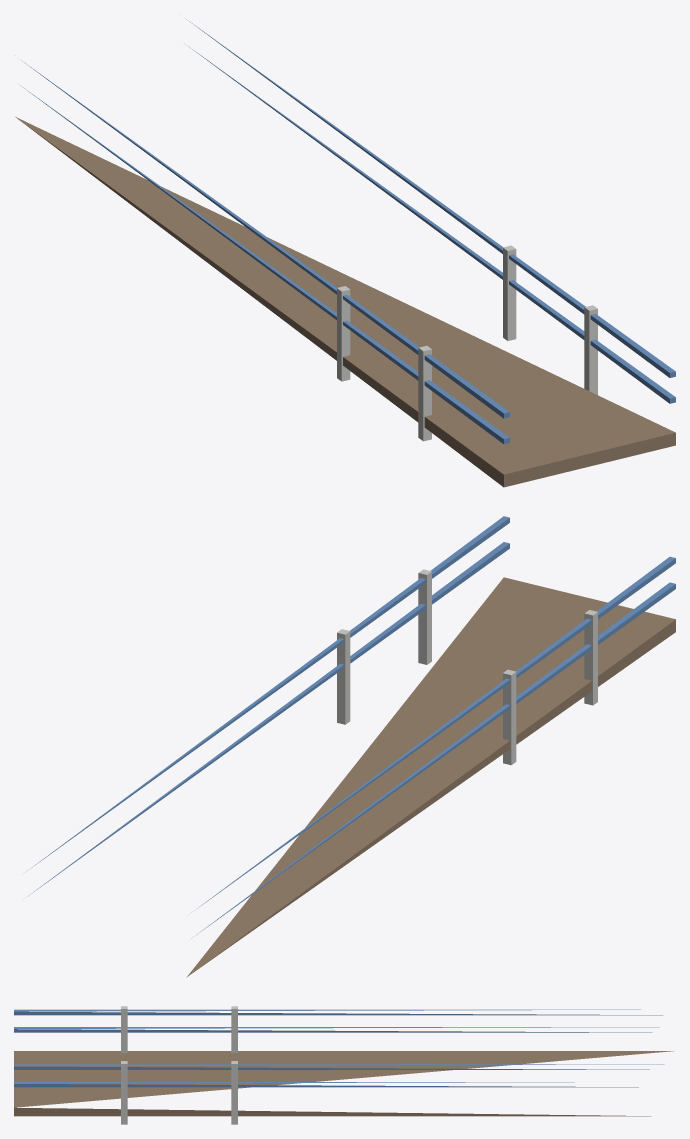
The model's file is pontilhao_pintado.glb.
The picture shows the model from 3 angles, top to bottom: view 1: azimuth 30°, elevation 25°; view 2: azimuth 150°, elevation 25°; view 3: azimuth 270°, elevation 25°; orthographic projection. The views are drawn at different scales.
Visible parts, largest first — view 1: Malha_0; view 2: Malha_0; view 3: Malha_0.
Boxes of the visible parts, box(x1,y1,x2,y2) form: Malha_0: box(15, 19, 675, 487); Malha_0: box(26, 516, 675, 977); Malha_0: box(14, 1006, 673, 1124).
Size of the model in its own units: 2.84 by 1.4 by 13.8.
